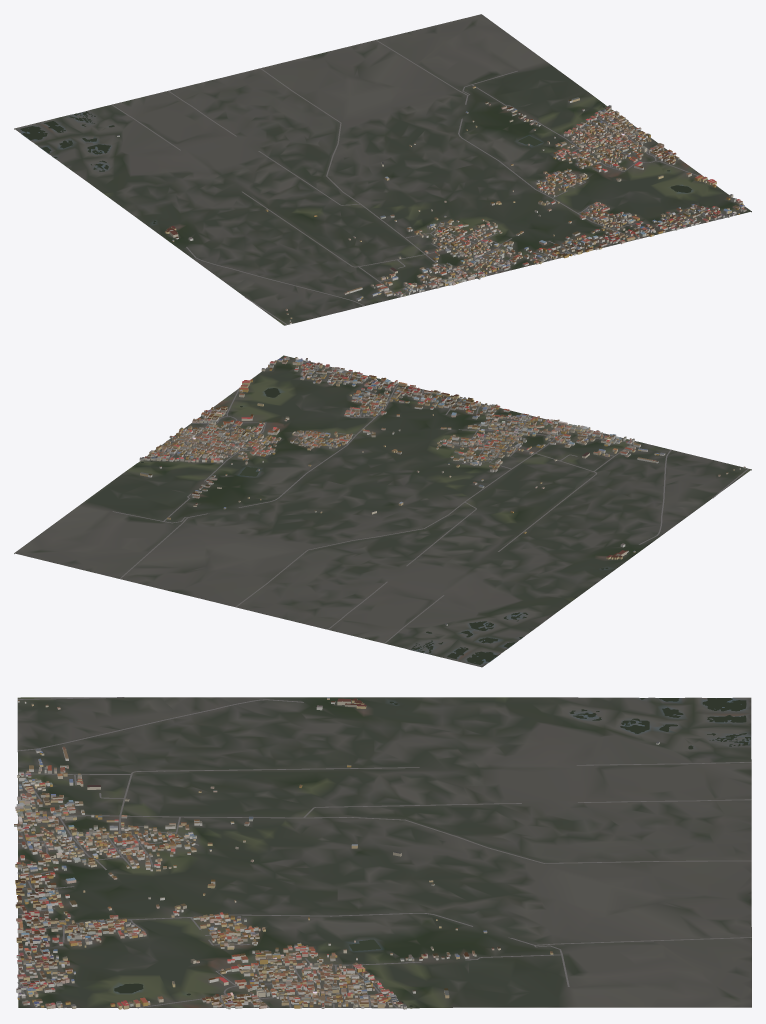
3 views of the same model, one above another, from view 1: azimuth 30°, elevation 25°; view 2: azimuth 150°, elevation 25°; view 3: azimuth 270°, elevation 25° (orthographic). The views are drawn at different scales.
Parts seen in each view (by area): view 1: ground, buildings, roads, water; view 2: ground, buildings, roads, water; view 3: ground, buildings, roads, water.
Boxes of the visible parts, x1,y1,x2,y2 form: ground: [14, 14, 751, 325]; buildings: [117, 86, 746, 324]; roads: [111, 40, 730, 324]; water: [20, 106, 691, 223]; ground: [14, 355, 751, 667]; buildings: [139, 356, 745, 625]; roads: [112, 362, 748, 643]; water: [141, 388, 608, 664]; ground: [17, 697, 751, 1008]; buildings: [14, 697, 659, 1009]; roads: [17, 697, 751, 1008]; water: [114, 698, 750, 1006].
Bounding box in the file's own units: 1411 × 14.77 × 1410.
